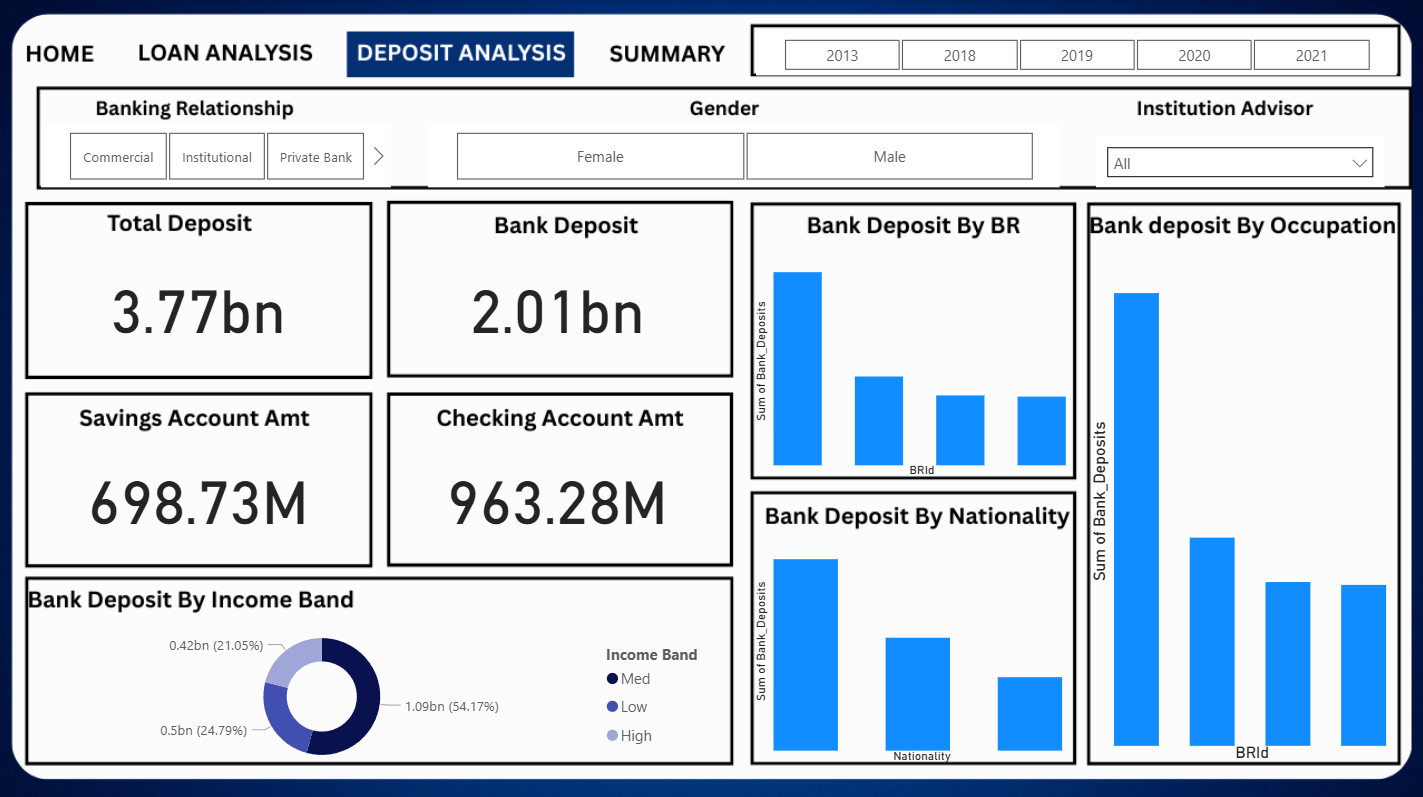

Layout of this report page (visuals, bound fields, positions):
{"tool":"powerbi","page":{"name":"Deposit Analysis","canvas":[1280,720],"ordinal":1},"visuals":[{"type":"slicer","fields":{"Values":["banking.year of joining"]},"box":[679.6,29.6,574.6,38.6],"z":0},{"type":"actionButton","box":[546.7,27.8,109.5,40.4],"z":2000},{"type":"actionButton","box":[19.8,27.8,73.6,40.4],"z":3000},{"type":"card","fields":{"Values":["banking.total deposits"]},"box":[29.6,231.6,298.1,85.3],"z":4000},{"type":"card","fields":{"Values":["Sum(banking.Bank_Deposits)"]},"box":[351.9,231.6,298.1,85.3],"z":5000},{"type":"card","fields":{"Values":["Sum(banking.Saving_Accounts)"]},"box":[29.6,403.1,298.1,85.3],"z":6000},{"type":"card","fields":{"Values":["Sum(banking.Checking_Accounts)"]},"box":[351.9,403.1,298.1,85.3],"z":7000},{"type":"donutChart","fields":{"Category":["banking.Income Band"],"Y":["Sum(banking.Bank_Deposits)"]},"box":[29.6,554.8,620.3,142.7],"z":8000},{"type":"clusteredColumnChart","fields":{"Category":["banking.BRId"],"Y":["Sum(banking.Bank_Deposits)"]},"box":[673.3,217.3,293.6,216.4],"z":9000},{"type":"clusteredColumnChart","fields":{"Category":["banking.Nationality"],"Y":["Sum(banking.Bank_Deposits)"]},"box":[673.1,464,293.7,225.7],"z":10000},{"type":"slicer","fields":{"Values":["banking.BRId"]},"box":[37.7,113.1,314.2,55.7],"z":11000},{"type":"slicer","fields":{"Values":["banking.GenderId"]},"box":[385.1,113.1,567.4,55.7],"z":12000},{"type":"slicer","fields":{"Values":["banking.IAId"]},"box":[984.8,123,259.5,45.8],"z":13000},{"type":"clusteredColumnChart","fields":{"Category":["banking.BRId"],"Y":["Sum(banking.Bank_Deposits)"]},"box":[975,217.3,279.2,472.2],"z":14000},{"type":"actionButton","box":[119.4,27.8,166.1,40.4],"z":14001}]}

Visuals, with their boxes in screenshot pixels (x1, y1, x2, y2), scaled from the page's 1280x720 canvas onto the 1423x797 screenshot:
slicer - banking.year of joining: [756, 33, 1394, 75]
actionButton: [608, 31, 730, 75]
actionButton: [22, 31, 104, 75]
card - banking.total deposits: [33, 256, 364, 351]
card - Sum(banking.Bank_Deposits): [391, 256, 723, 351]
card - Sum(banking.Saving_Accounts): [33, 446, 364, 541]
card - Sum(banking.Checking_Accounts): [391, 446, 723, 541]
donutChart - banking.Income Band x Sum(banking.Bank_Deposits): [33, 614, 723, 772]
clusteredColumnChart - banking.BRId x Sum(banking.Bank_Deposits): [749, 241, 1075, 480]
clusteredColumnChart - banking.Nationality x Sum(banking.Bank_Deposits): [748, 514, 1075, 763]
slicer - banking.BRId: [42, 125, 391, 187]
slicer - banking.GenderId: [428, 125, 1059, 187]
slicer - banking.IAId: [1095, 136, 1383, 187]
clusteredColumnChart - banking.BRId x Sum(banking.Bank_Deposits): [1084, 241, 1394, 763]
actionButton: [133, 31, 317, 75]
